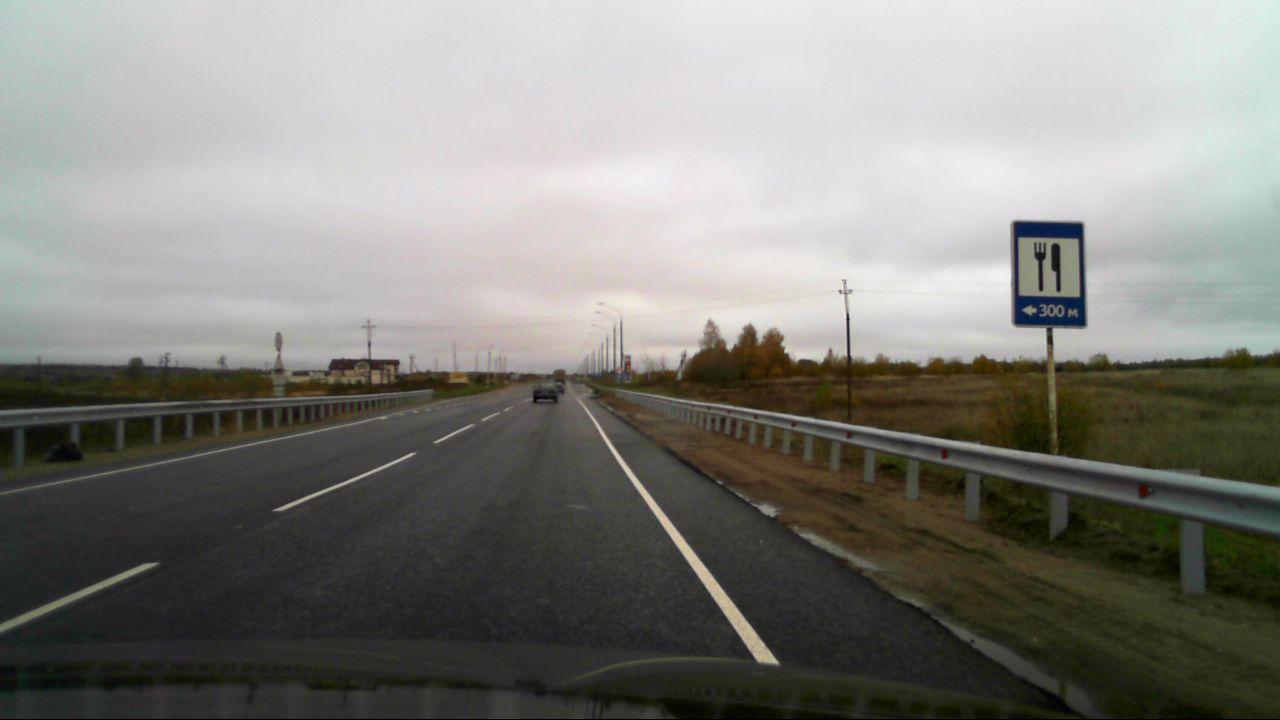7_7: (1011, 219, 1086, 326)
